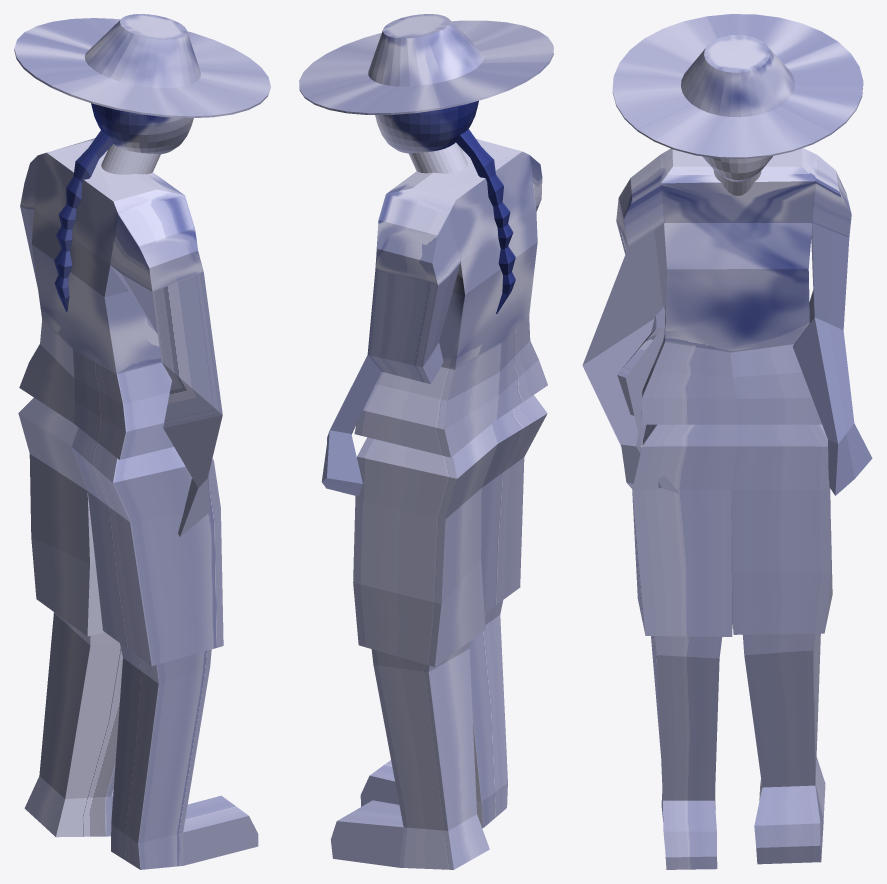
File: walkingman.gltf
The picture shows the model from 3 angles, left to right: view 1: azimuth 30°, elevation 25°; view 2: azimuth 150°, elevation 25°; view 3: azimuth 270°, elevation 25°; orthographic projection. The views are drawn at different scales.
Visible parts, largest first — view 1: Cube.001, Cylinder.001, Cube, Cylinder; view 2: Cube.001, Cylinder.001, Cube, Cylinder; view 3: Cube.001, Cylinder.001, Cube.
Boxes of the visible parts, box(x1,y1,x2,y2) form: Cube.001: box(18, 138, 258, 869); Cylinder.001: box(14, 14, 270, 118); Cube: box(54, 103, 193, 311); Cylinder: box(101, 144, 160, 174); Cube.001: box(321, 139, 547, 869); Cylinder.001: box(299, 14, 553, 114); Cube: box(375, 100, 515, 313); Cylinder: box(409, 142, 467, 173); Cube.001: box(582, 148, 872, 869); Cylinder.001: box(612, 14, 863, 158); Cube: box(702, 156, 772, 182).
Bounding box in the file's own units: 4.33 × 15.39 × 5.07.
Materials: 4 (4 with a texture image).
